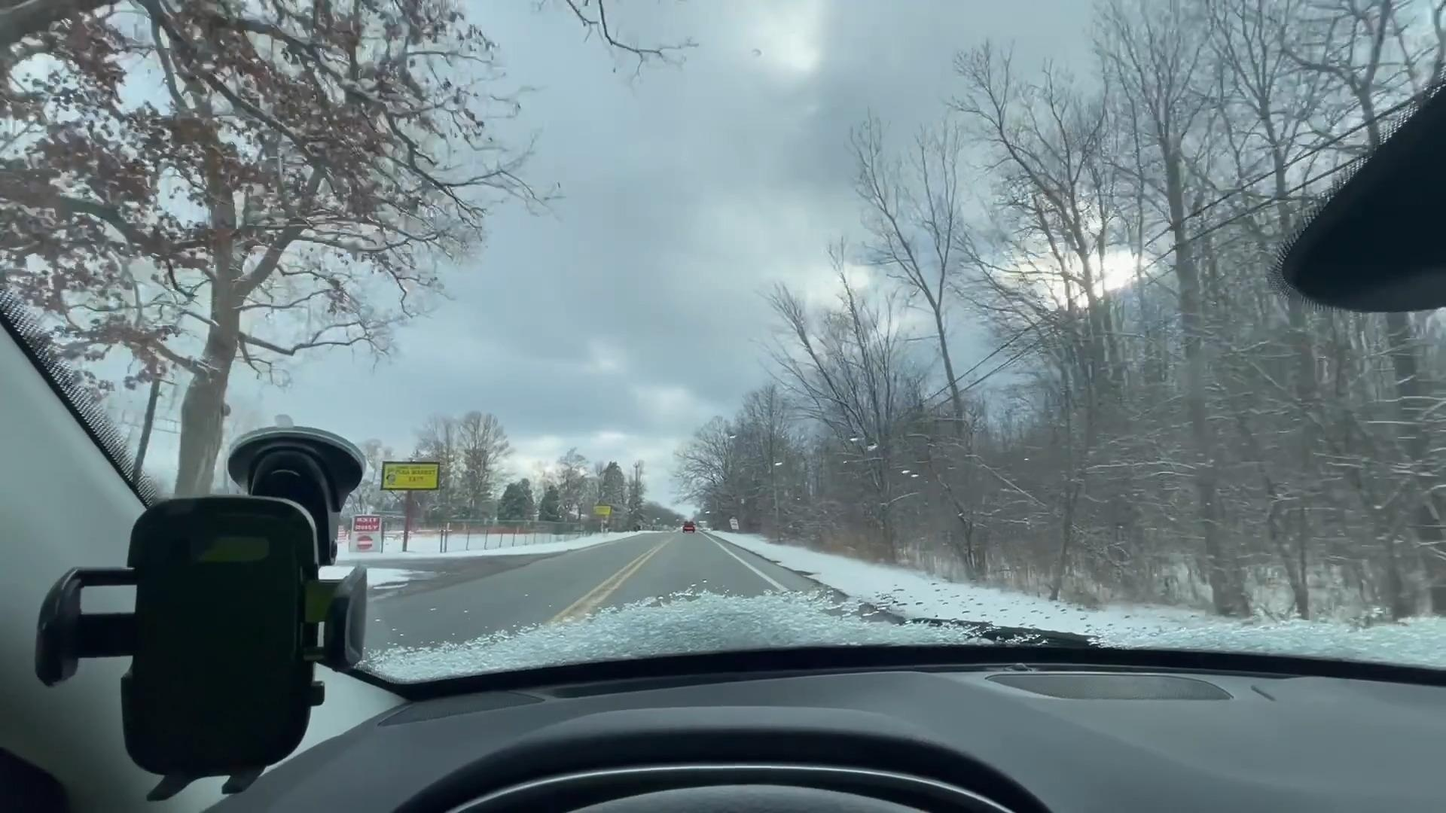Snow: (708, 530, 1445, 656), (335, 530, 627, 592)
dry: (362, 530, 861, 653)
